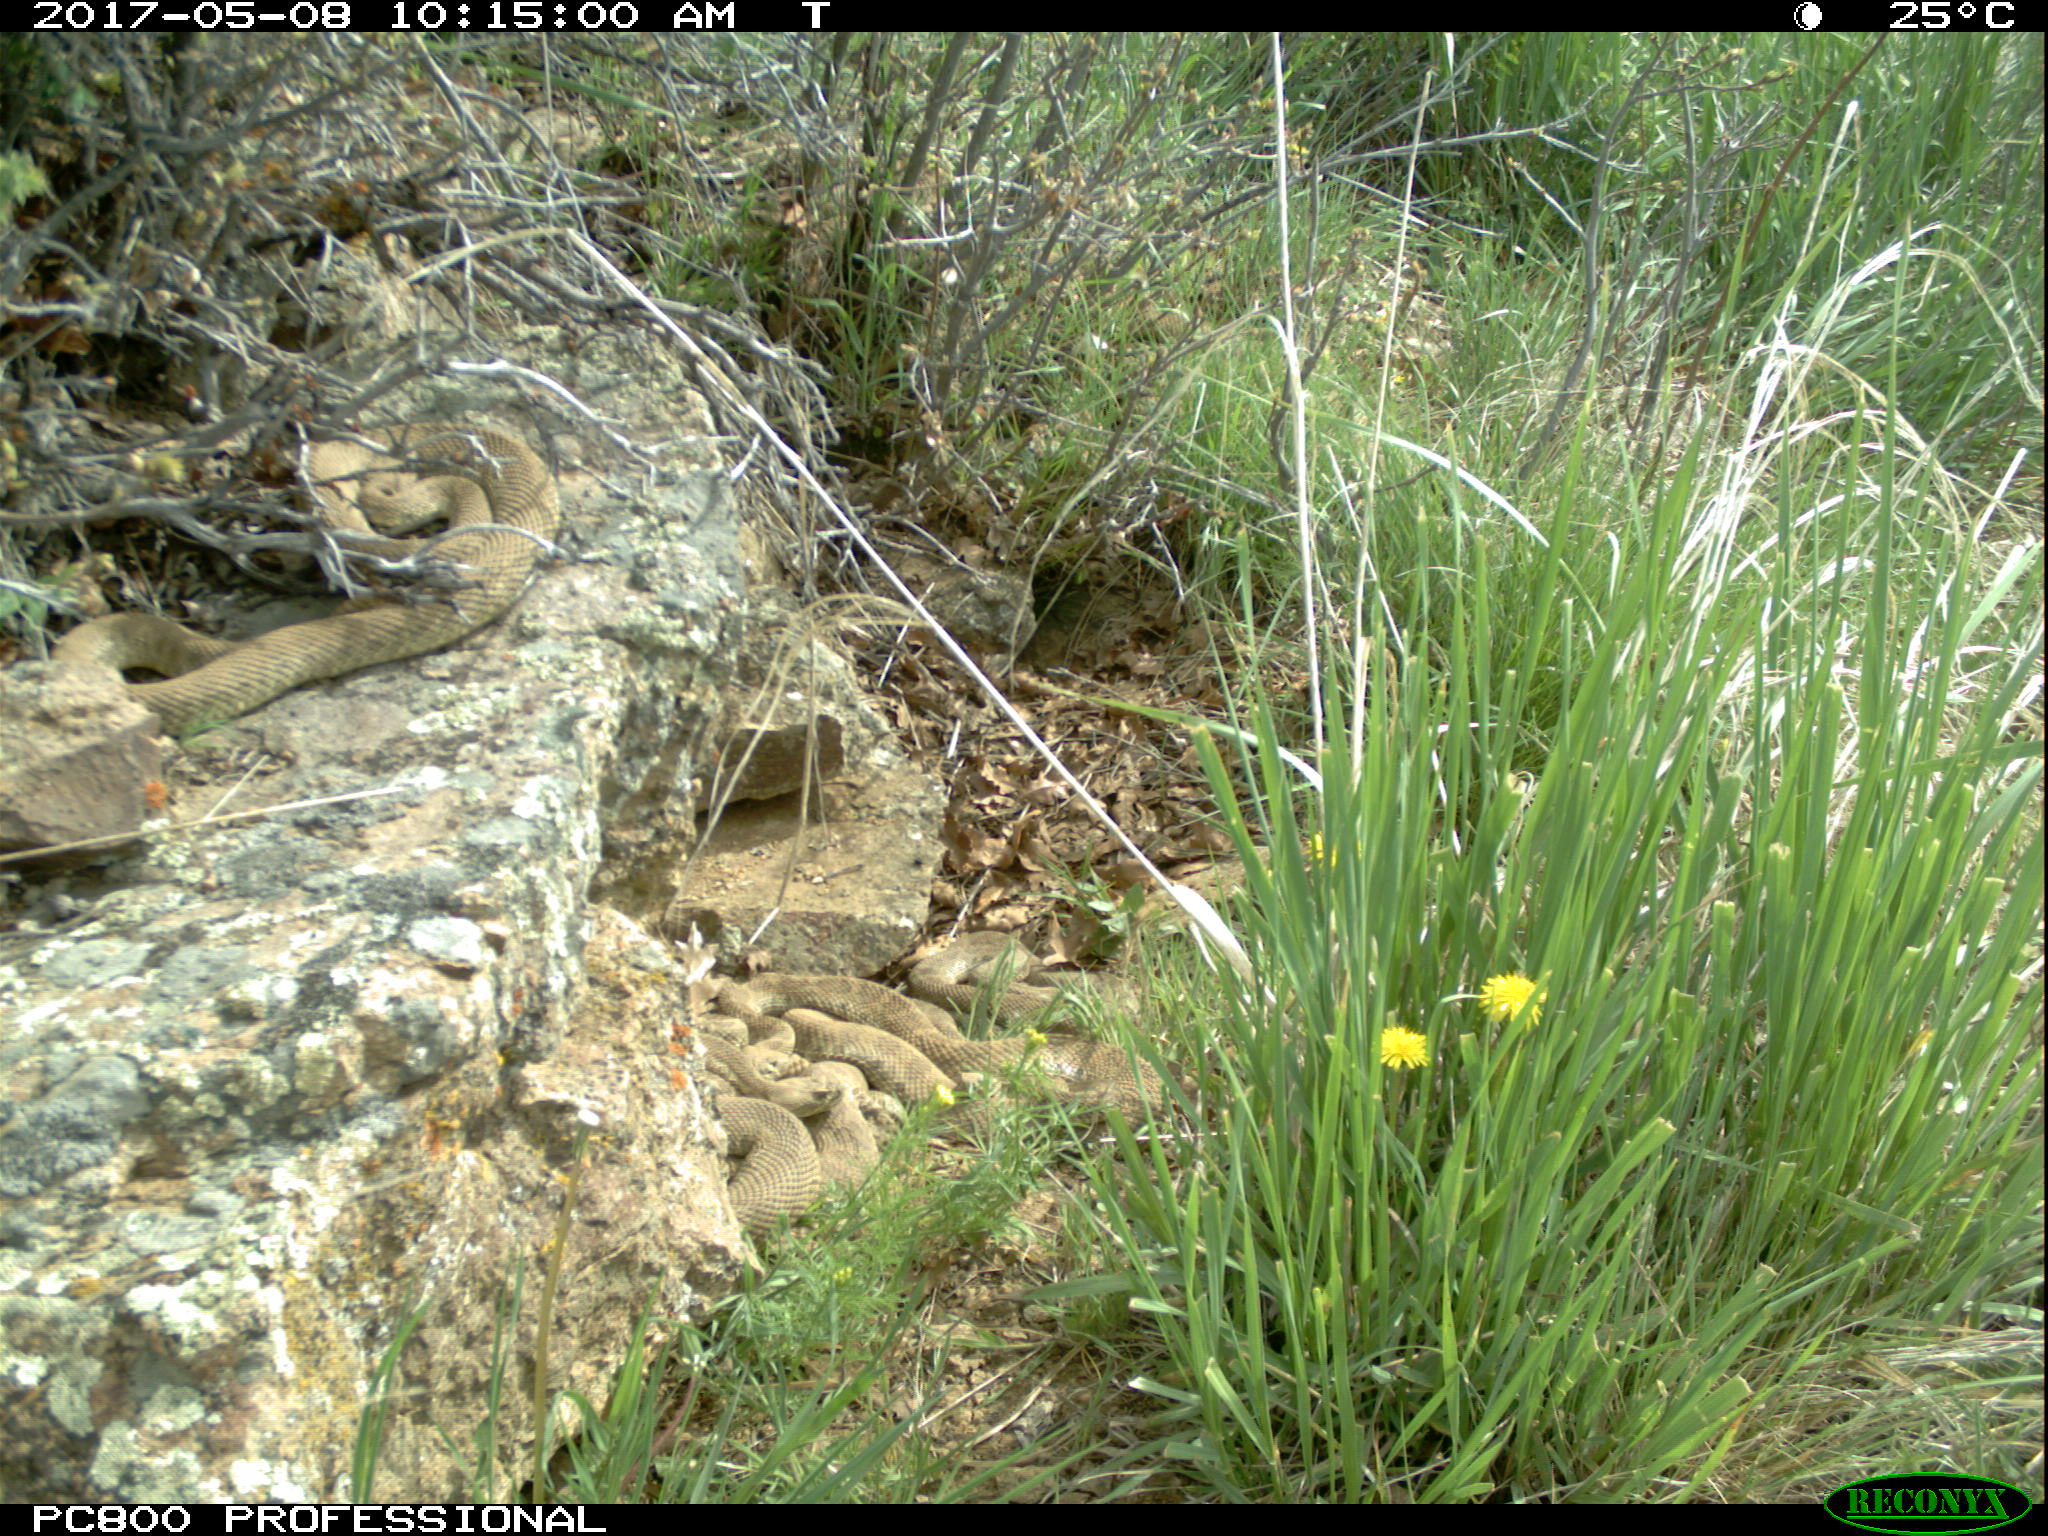snake: (60, 416, 601, 741), (706, 970, 1176, 1123), (703, 970, 897, 1241), (919, 928, 1197, 1036)
